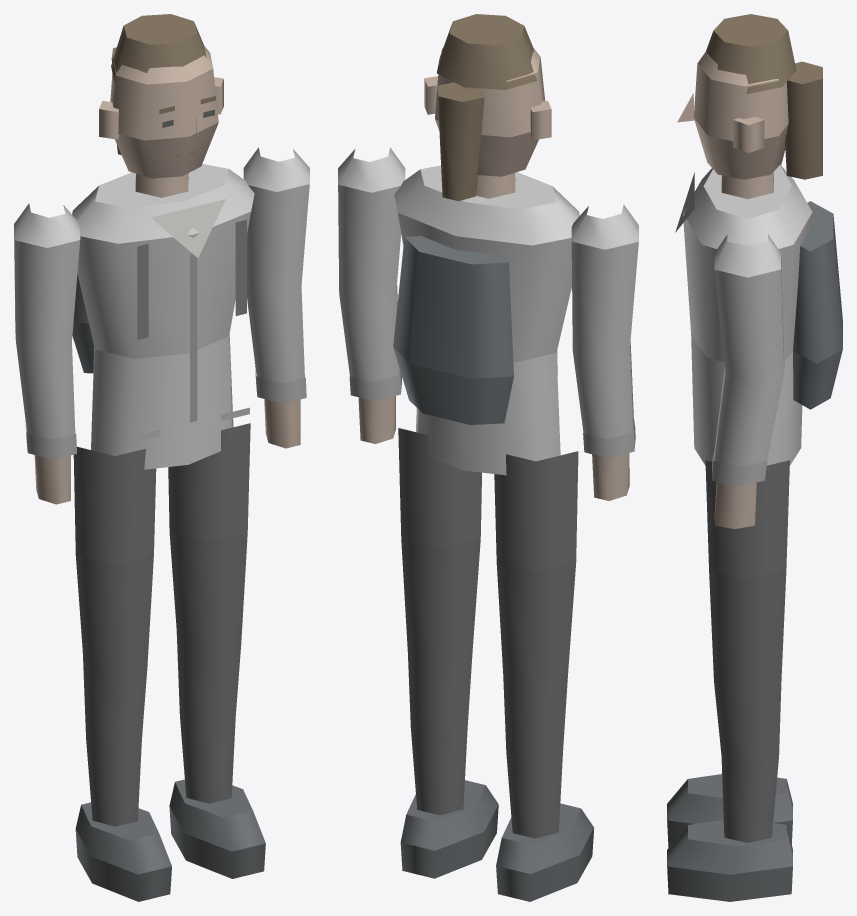
The model's file is walker_10.glb.
3 renders of one model, left to right at view 1: azimuth 30°, elevation 25°; view 2: azimuth 150°, elevation 25°; view 3: azimuth 270°, elevation 25°, orthographic.
Visible parts, largest first — view 1: walker_10; view 2: walker_10; view 3: walker_10.
Boxes of the visible parts, bbox=[...] form: walker_10: bbox=[14, 14, 309, 901]; walker_10: bbox=[338, 14, 638, 901]; walker_10: bbox=[667, 14, 842, 901].
Size of the model in its own units: 0.662 by 1.77 by 0.3385.
